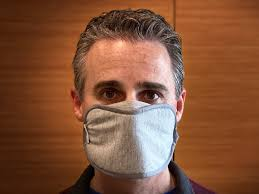mask: (81, 20, 179, 173)
